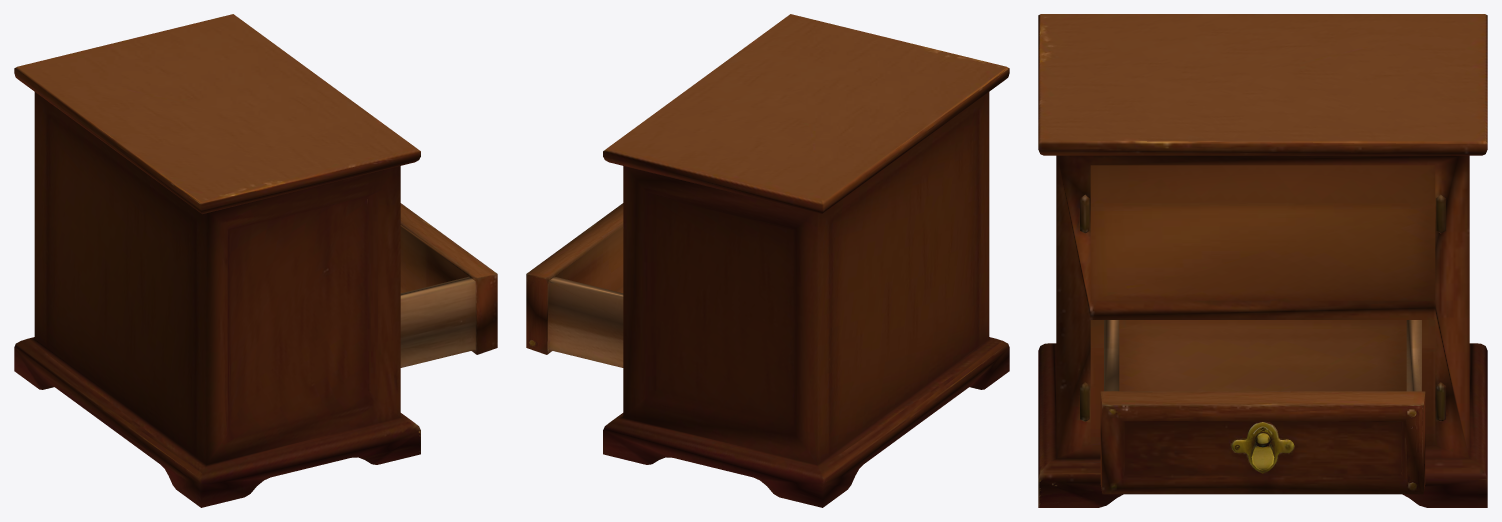
The model's file is Furn_Cabinet.fbx.
The picture shows the model from 3 angles, left to right: view 1: azimuth 30°, elevation 25°; view 2: azimuth 150°, elevation 25°; view 3: azimuth 270°, elevation 25°; orthographic projection. The views are drawn at different scales.
Parts seen in each view (by area): view 1: Cabinet_Body, Cabinet_Drawer; view 2: Cabinet_Body, Cabinet_Drawer; view 3: Cabinet_Body, Cabinet_Drawer.
Part boxes in pixels (x1,y1,x2,y2): Cabinet_Body: [14, 14, 420, 507]; Cabinet_Drawer: [14, 66, 497, 367]; Cabinet_Body: [547, 14, 1009, 507]; Cabinet_Drawer: [526, 71, 1005, 367]; Cabinet_Body: [1038, 14, 1487, 507]; Cabinet_Drawer: [1100, 320, 1425, 494].
Size of the model in its own units: 73.98 by 65 by 72.24.
